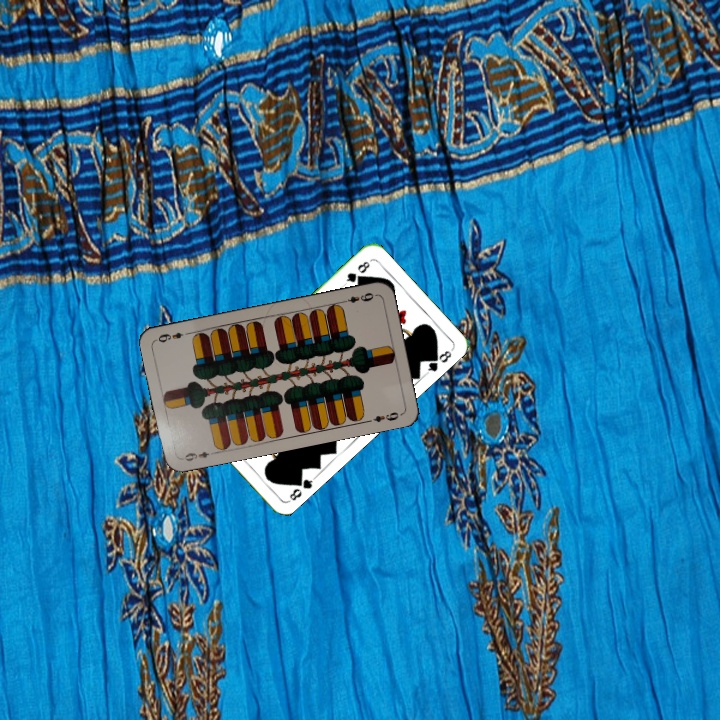E9: (338, 288, 378, 305), (178, 447, 218, 464)
G8: (284, 472, 317, 505), (340, 257, 373, 288)
